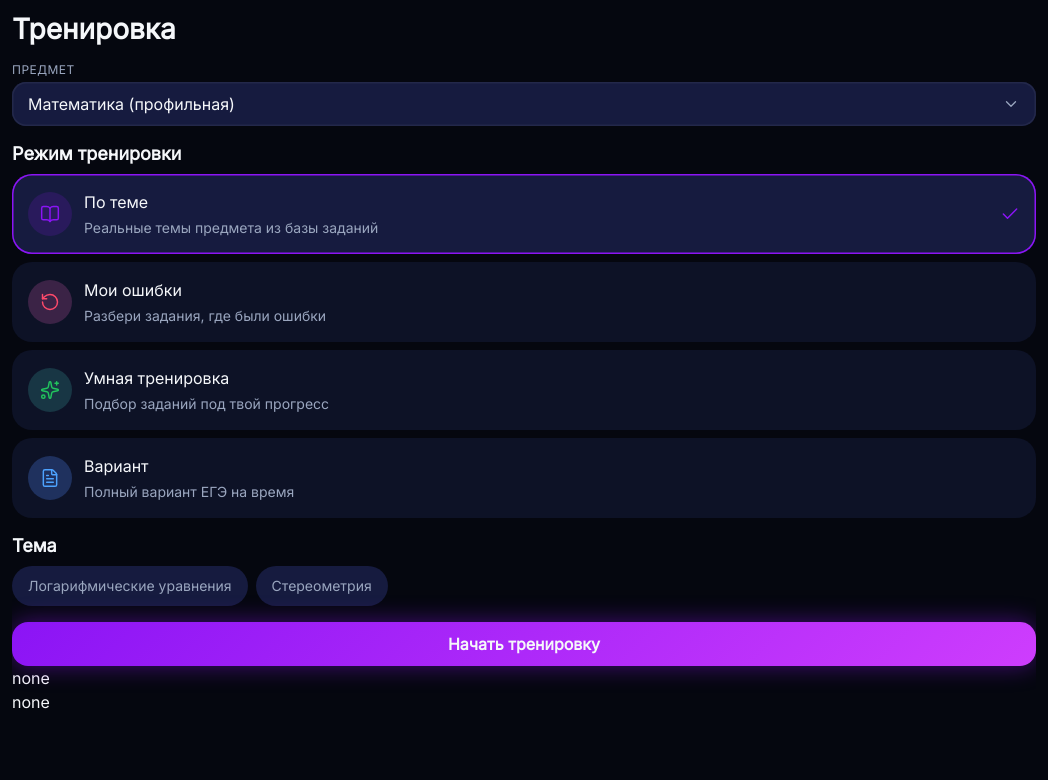
Training — structure (no "Быстрый старт") › selects a training mode and shows clear selected-state feedback
Click the button "Мои ошибки Разбери задания, где были ошибки". click: click(50, 302)
box: [12, 262, 1036, 342]
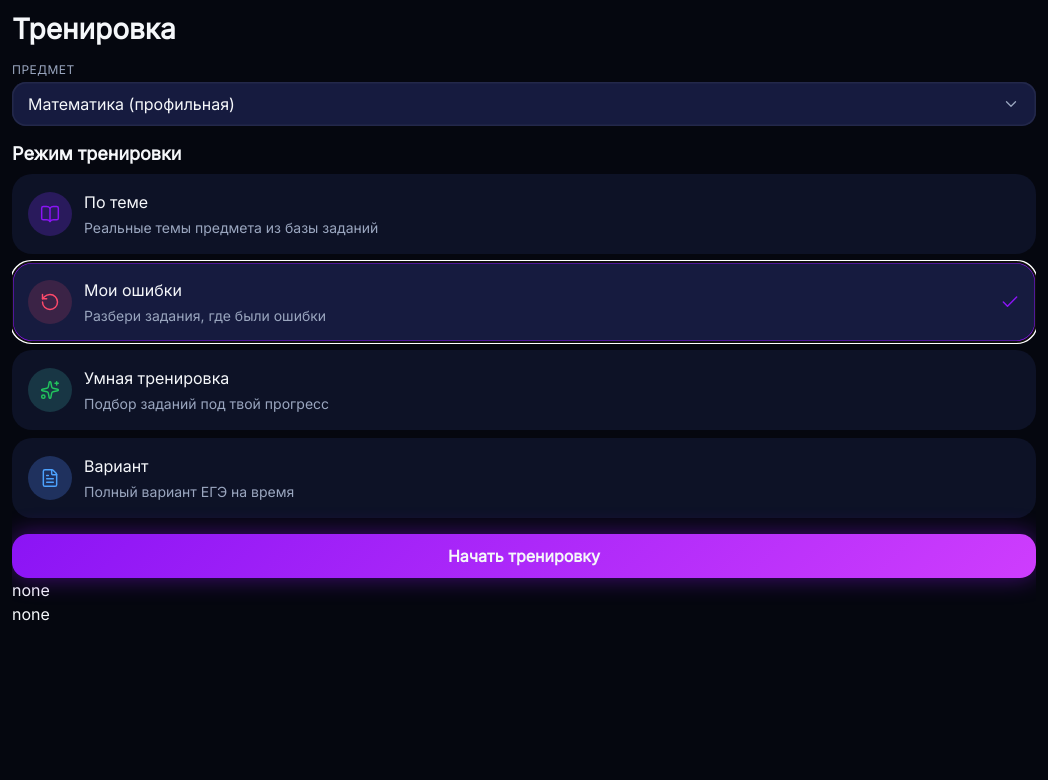
expect the button "Мои ошибки Разбери задания, где были ошибки" is pressed: met, box [12, 262, 1036, 342]
expect the button "По теме Реальные темы предмета из базы заданий" is not pressed: met, box [12, 174, 1036, 254]
